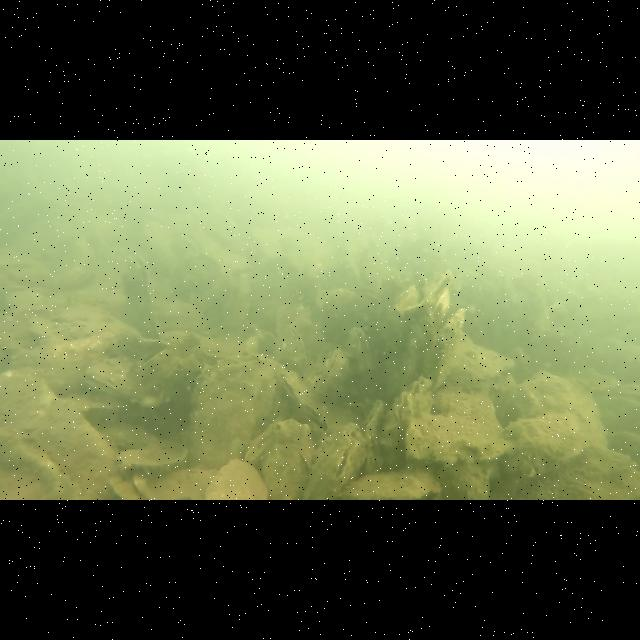Oyster-Closed: (0, 368, 116, 500), (185, 354, 288, 468), (508, 370, 610, 454), (524, 448, 640, 500), (407, 413, 508, 471), (500, 414, 586, 478), (246, 422, 314, 501), (137, 333, 206, 397), (129, 468, 219, 500), (214, 458, 270, 500), (114, 445, 188, 471), (361, 400, 385, 472), (284, 324, 308, 374)
Oyster-Open: (302, 422, 366, 500), (120, 255, 166, 342), (381, 376, 434, 450), (426, 290, 466, 388), (276, 366, 334, 429), (454, 342, 516, 391), (82, 355, 142, 401), (346, 326, 376, 378), (320, 348, 348, 386)
